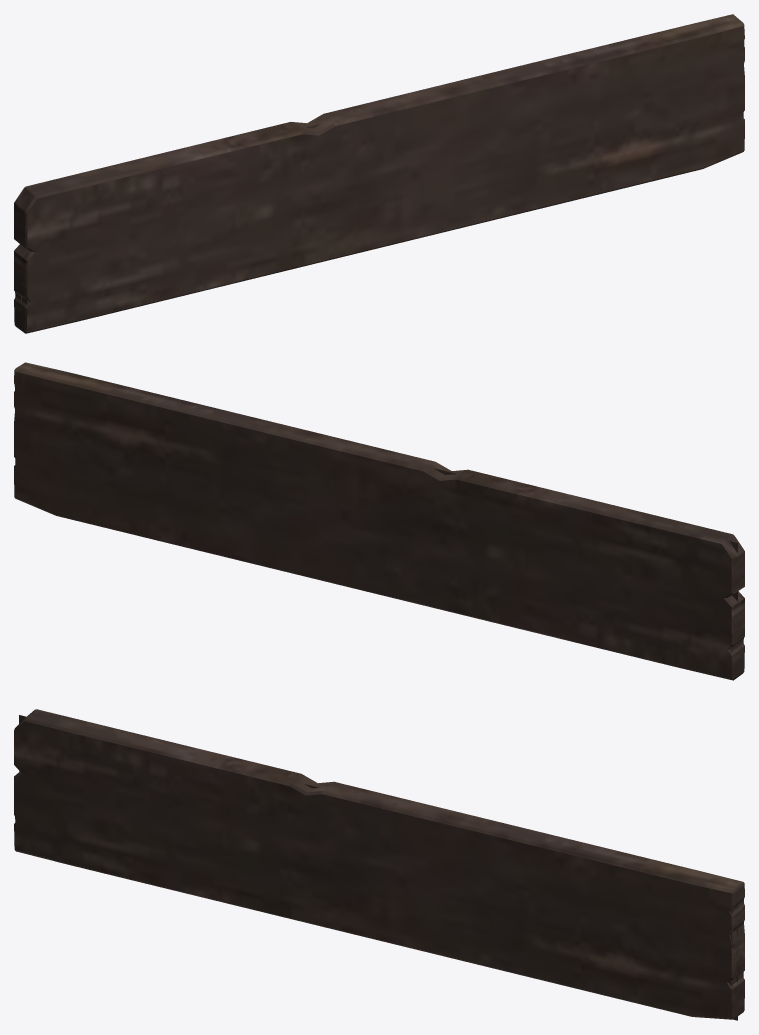
Rendered from FenceWood2.glb.
3 renders of one model, top to bottom at view 1: azimuth 30°, elevation 25°; view 2: azimuth 150°, elevation 25°; view 3: azimuth 330°, elevation 25°, orthographic.
Parts seen in each view (by area): view 1: FenceWood2; view 2: FenceWood2; view 3: FenceWood2.
Boxes of the visible parts, x1,y1,x2,y2 form: FenceWood2: (14, 14, 744, 333); FenceWood2: (14, 362, 744, 680); FenceWood2: (14, 709, 744, 1020).
Bounding box in the file's own units: 0.992 × 0.1808 × 0.0317.
1 material, 1 textured.
